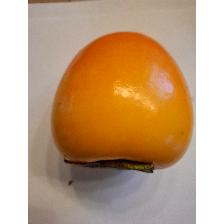Kaki: (47, 27, 195, 175)
